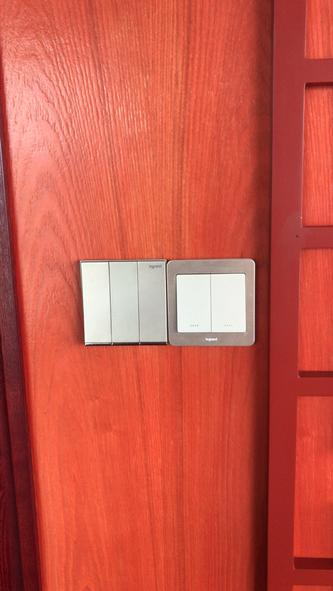switch: (78, 258, 116, 348), (107, 258, 145, 347), (133, 258, 171, 346), (205, 270, 250, 337), (174, 269, 214, 336)
